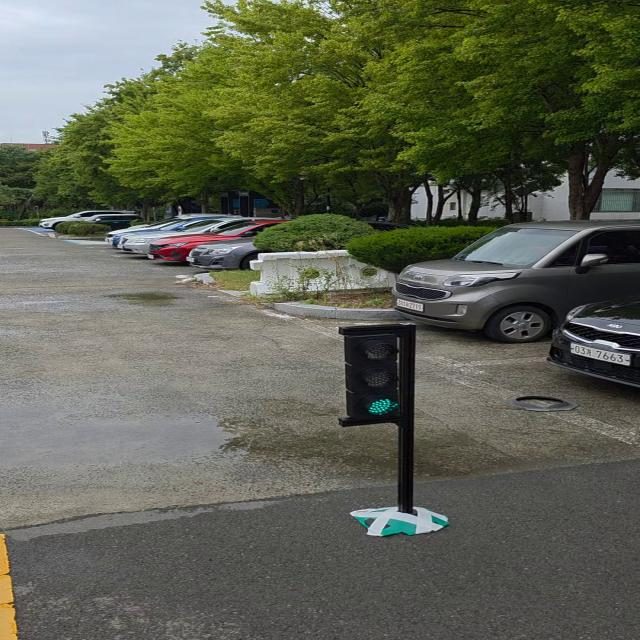green: (344, 325, 416, 426)
